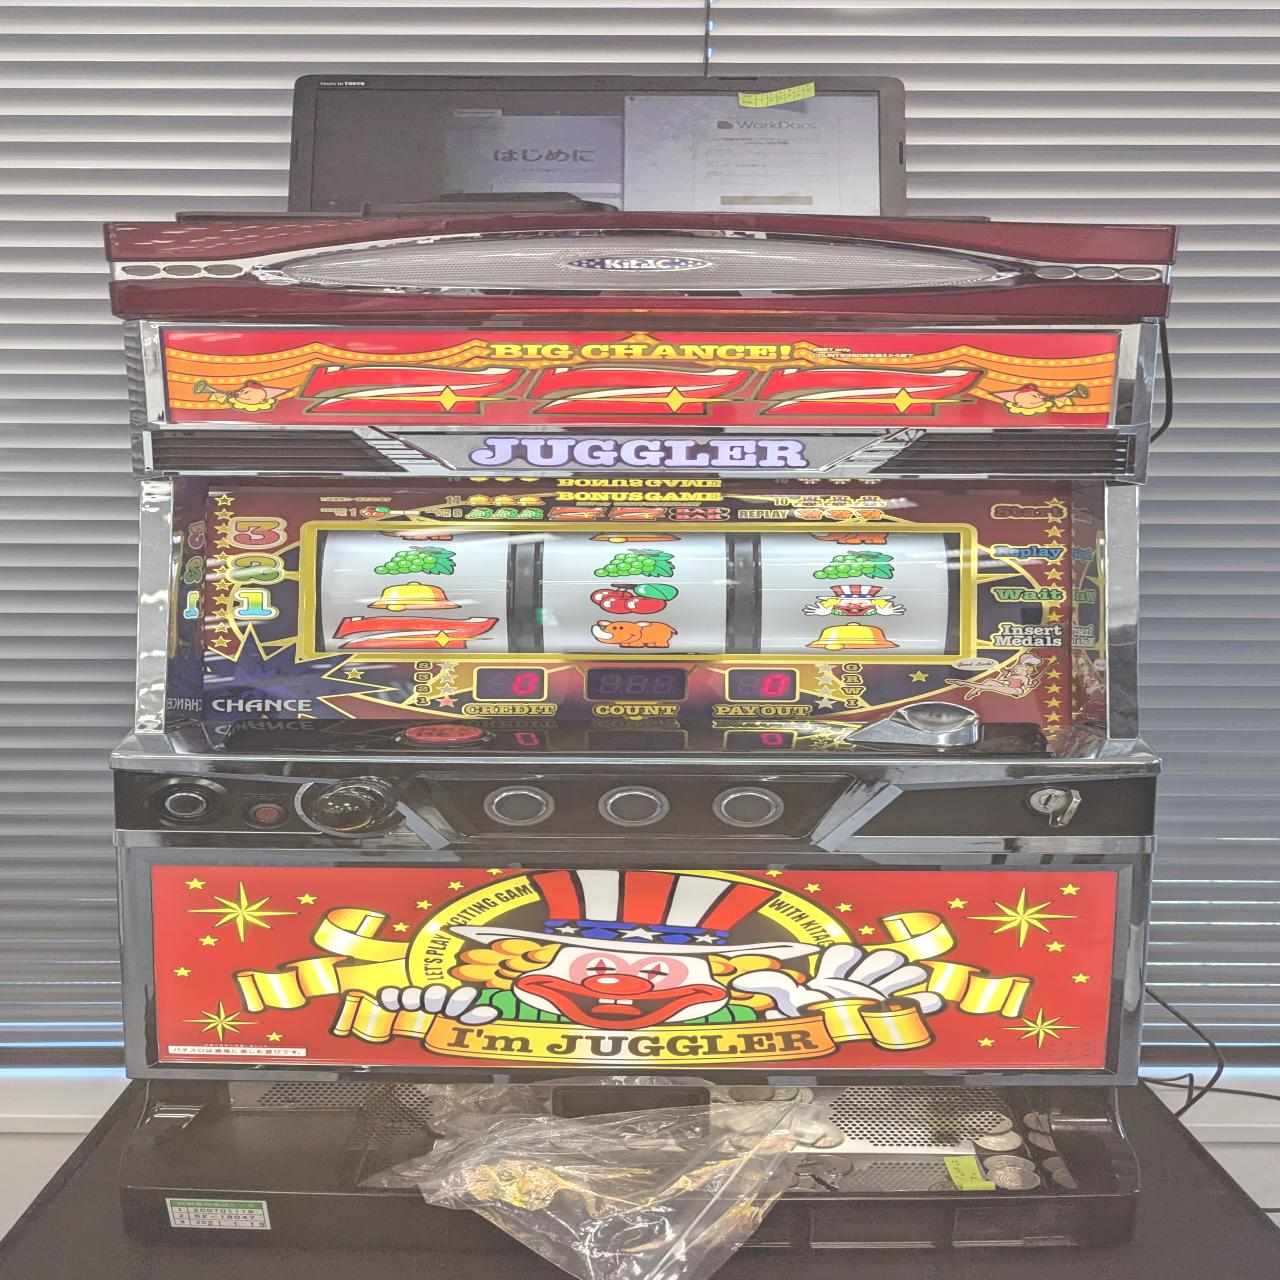7: (332, 615, 501, 653)
8: (587, 619, 682, 652)
Display: (316, 527, 965, 654)
bell: (362, 580, 464, 613), (803, 621, 903, 652)
clown: (799, 584, 908, 619)
grape: (591, 580, 685, 615), (361, 544, 461, 577), (811, 549, 898, 580), (591, 549, 679, 579)
